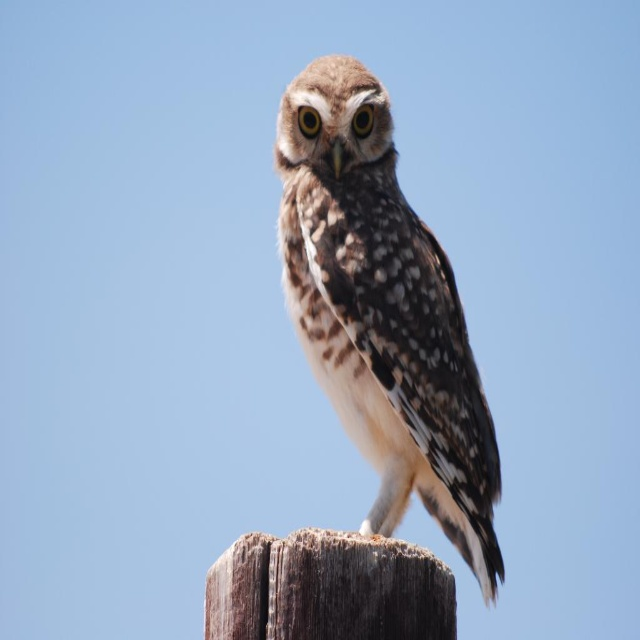Owl: (270, 54, 505, 614)
